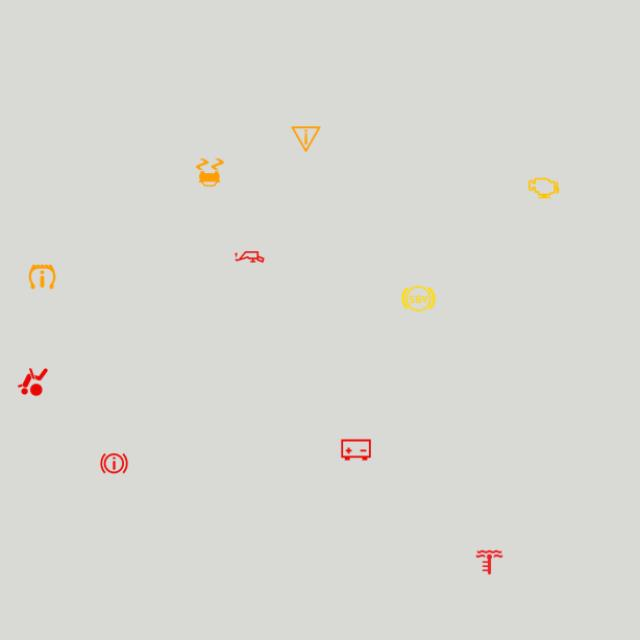Anti Lock Braking System: (401, 280, 436, 316)
Braking System Issue: (96, 446, 132, 482)
Charging System Issue: (338, 432, 374, 468)
Check Engine: (526, 170, 562, 206)
Electronic Stability Problem -ESP-: (192, 154, 228, 190)
Engine Overheating Warning Light: (472, 544, 508, 580)
Low Engine Oil Warning Light: (232, 239, 268, 275)
Low Tire Pressure Warning Light: (24, 258, 60, 294)
Master warning light: (288, 121, 324, 157)
SRS-Airbag: (15, 364, 51, 400)
